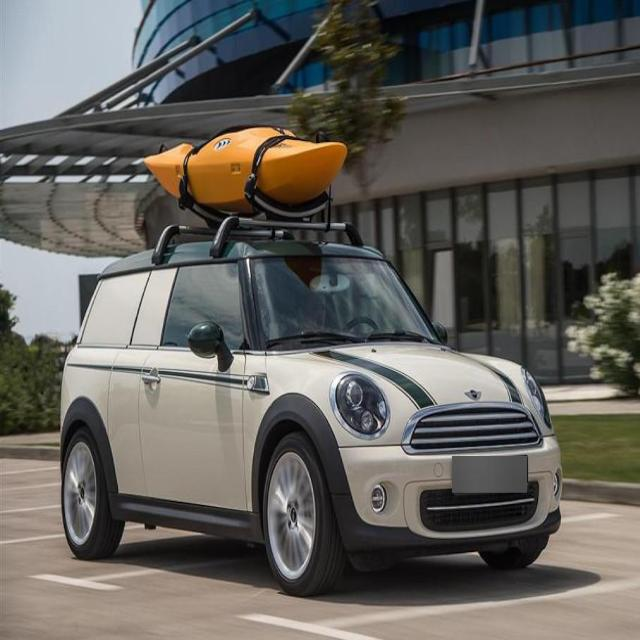front_bumper: (325, 434, 565, 552)
front_glass: (244, 252, 441, 348)
front_left_side_light: (522, 367, 554, 430)
front_left_side_mirror: (434, 320, 451, 348)
front_right_side_door: (136, 259, 250, 516)
front_right_side_light: (334, 366, 388, 441)
front_right_side_mirror: (188, 318, 235, 376)
wheel: (263, 428, 338, 598), (60, 424, 125, 560)
